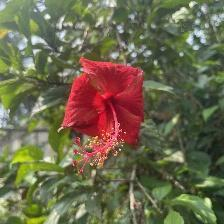hibiscus: (58, 55, 150, 185)
